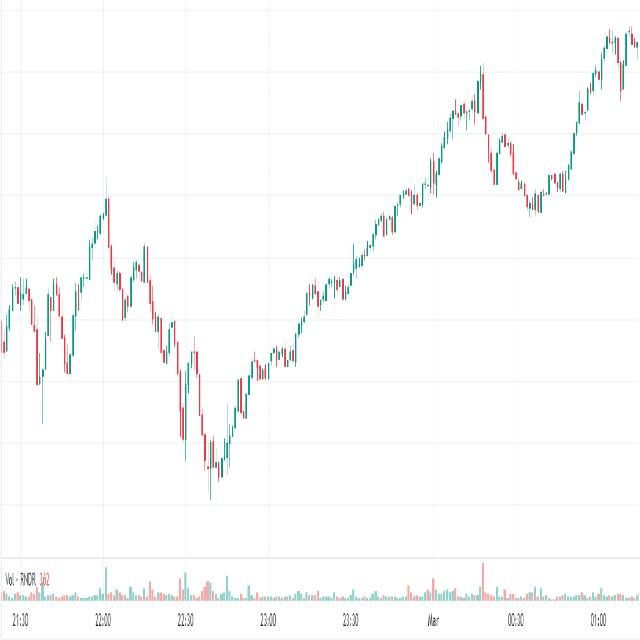Double-Bottom: (26, 264, 84, 402)
Rounding-Bottom: (147, 272, 309, 490), (480, 96, 584, 228)
